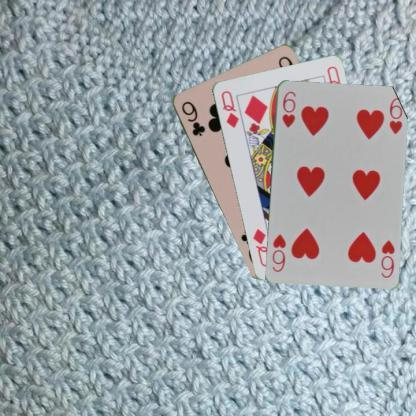6h: (378, 237, 396, 280), (279, 89, 297, 130)
9c: (178, 98, 206, 138)
Qd: (218, 88, 240, 129)
